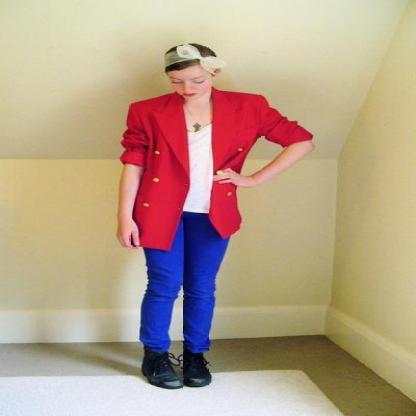jacket: (120, 86, 311, 250)
pants: (139, 212, 229, 357)
shirt: (182, 123, 213, 212)
shoe: (142, 341, 211, 387)
